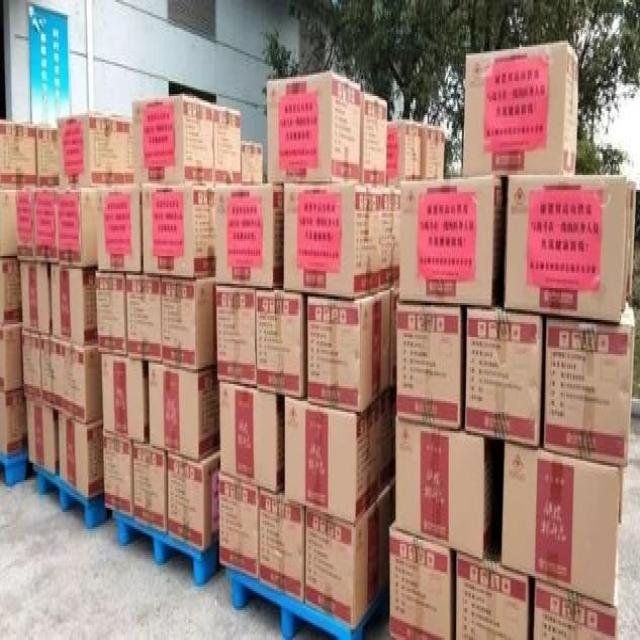box: (500, 444, 621, 606), (504, 173, 626, 322), (461, 43, 578, 175), (544, 301, 636, 465), (394, 418, 489, 563), (400, 175, 500, 303), (283, 397, 381, 525), (304, 491, 392, 631), (283, 181, 381, 299), (464, 303, 542, 448), (266, 73, 361, 186), (307, 290, 390, 410), (396, 303, 461, 431), (131, 94, 214, 186), (219, 380, 285, 495), (214, 183, 284, 286), (389, 525, 451, 640), (148, 363, 220, 461), (142, 186, 215, 279), (456, 550, 528, 640), (57, 111, 133, 188), (167, 444, 220, 553), (40, 333, 102, 425), (256, 286, 303, 399), (259, 489, 305, 604), (161, 277, 214, 375), (533, 580, 617, 640), (218, 471, 259, 580), (101, 356, 149, 444), (95, 188, 143, 273), (216, 286, 256, 386), (59, 412, 104, 499), (51, 265, 98, 346), (132, 442, 167, 533), (56, 186, 95, 267), (126, 275, 161, 363), (102, 429, 133, 518), (361, 92, 388, 186), (0, 122, 36, 190), (97, 272, 126, 356), (27, 401, 59, 474), (20, 262, 51, 335), (214, 105, 243, 183), (380, 181, 400, 290), (388, 122, 422, 186), (380, 380, 397, 495), (35, 189, 58, 266), (1, 393, 27, 457), (0, 324, 23, 393), (0, 256, 22, 326), (15, 190, 35, 262), (21, 331, 41, 403), (36, 126, 58, 190), (421, 124, 445, 179), (0, 188, 17, 256), (390, 286, 402, 382), (241, 143, 263, 181)
